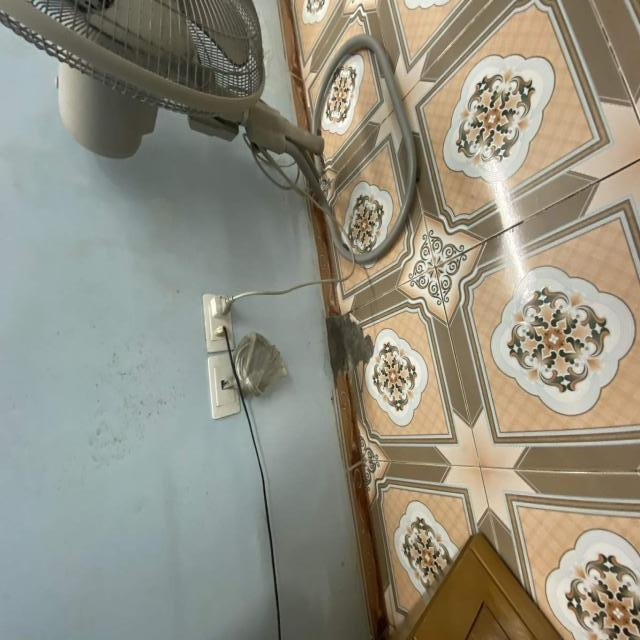outlet: (207, 355, 241, 421), (202, 294, 235, 353)
